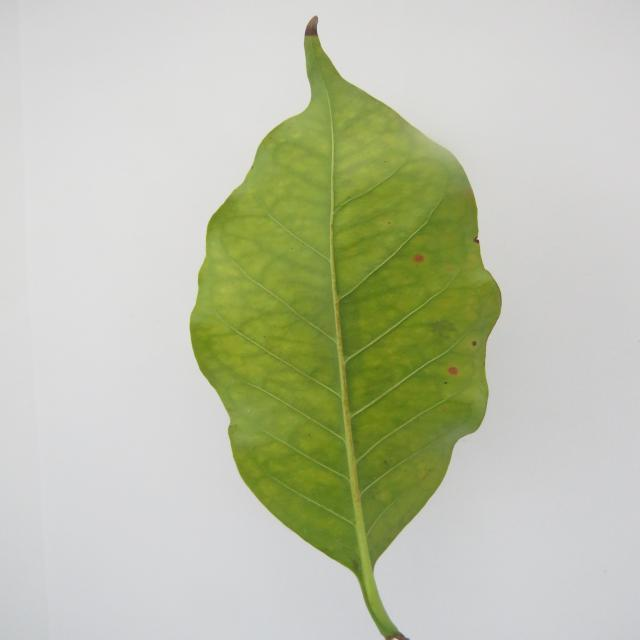DeficienciaNutricional-Calcio: (190, 18, 500, 640)
